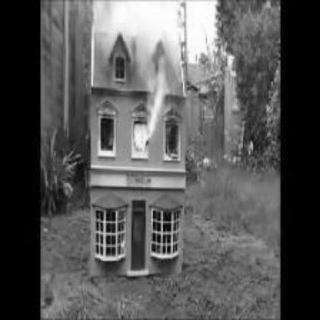Fire: (133, 46, 173, 143)
